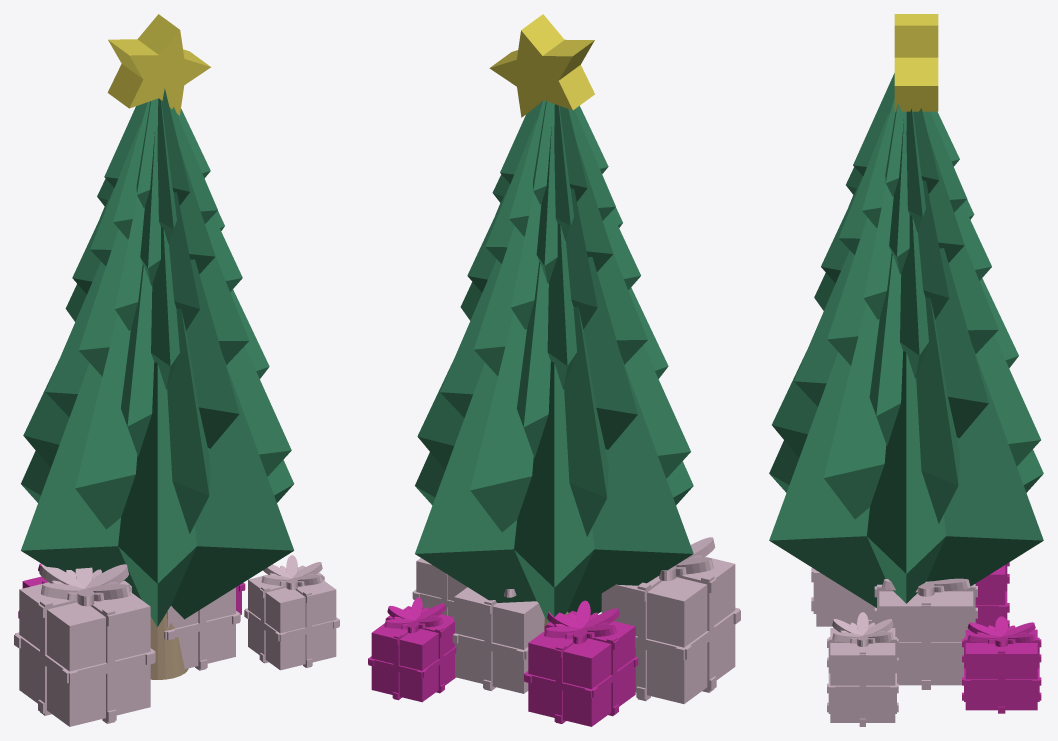
Rendered from Smashing Blad-Bruticus.glb.
3 views of the same model, side by side, from view 1: azimuth 30°, elevation 25°; view 2: azimuth 150°, elevation 25°; view 3: azimuth 270°, elevation 25° (orthographic).
Parts seen in each view (by area): view 1: Mesh_Mesh_head_geo.001_lambert2SG.001; view 2: Mesh_Mesh_head_geo.001_lambert2SG.001; view 3: Mesh_Mesh_head_geo.001_lambert2SG.001.
Part boxes in pixels (bbox=[...]): Mesh_Mesh_head_geo.001_lambert2SG.001: bbox=[14, 14, 339, 726]; Mesh_Mesh_head_geo.001_lambert2SG.001: bbox=[368, 14, 740, 726]; Mesh_Mesh_head_geo.001_lambert2SG.001: bbox=[769, 14, 1043, 726].
Size of the model in its own units: 0.041 by 0.089 by 0.0346.
